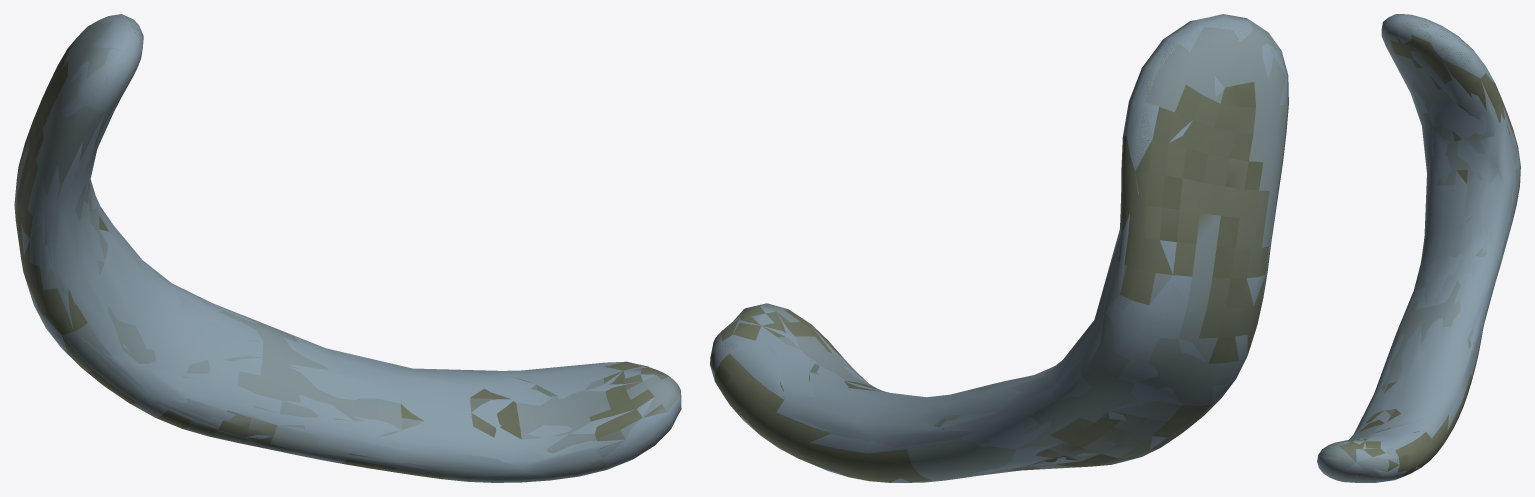
3 views of the same model, side by side, from view 1: azimuth 30°, elevation 25°; view 2: azimuth 150°, elevation 25°; view 3: azimuth 270°, elevation 25° (orthographic). The views are drawn at different scales.
Parts seen in each view (by area): view 1: CC R02, CC R02 high, CC R02 low; view 2: CC R02 high, CC R02, CC R02 low; view 3: CC R02, CC R02 low, CC R02 high.
Part boxes in pixels (left/top/right/bottom): CC R02: left=21, top=14, right=681, bottom=478; CC R02 high: left=14, top=16, right=681, bottom=482; CC R02 low: left=44, top=151, right=634, bottom=470; CC R02 high: left=710, top=14, right=1288, bottom=482; CC R02: left=710, top=14, right=1288, bottom=482; CC R02 low: left=750, top=218, right=1122, bottom=470; CC R02: left=1317, top=14, right=1520, bottom=482; CC R02 low: left=1349, top=83, right=1513, bottom=444; CC R02 high: left=1318, top=15, right=1520, bottom=482.
Bounding box in the file's own units: 5.9 × 5.05 × 2.82.
